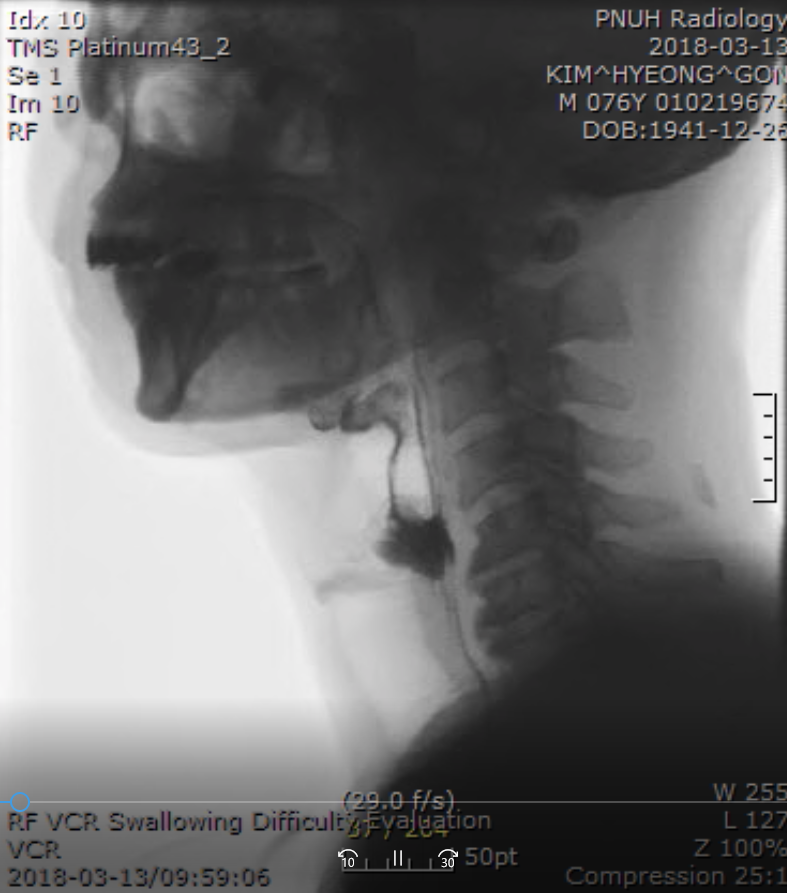dros: (387, 454, 444, 521)
food: (356, 500, 460, 587)
uros: (334, 380, 401, 445)
